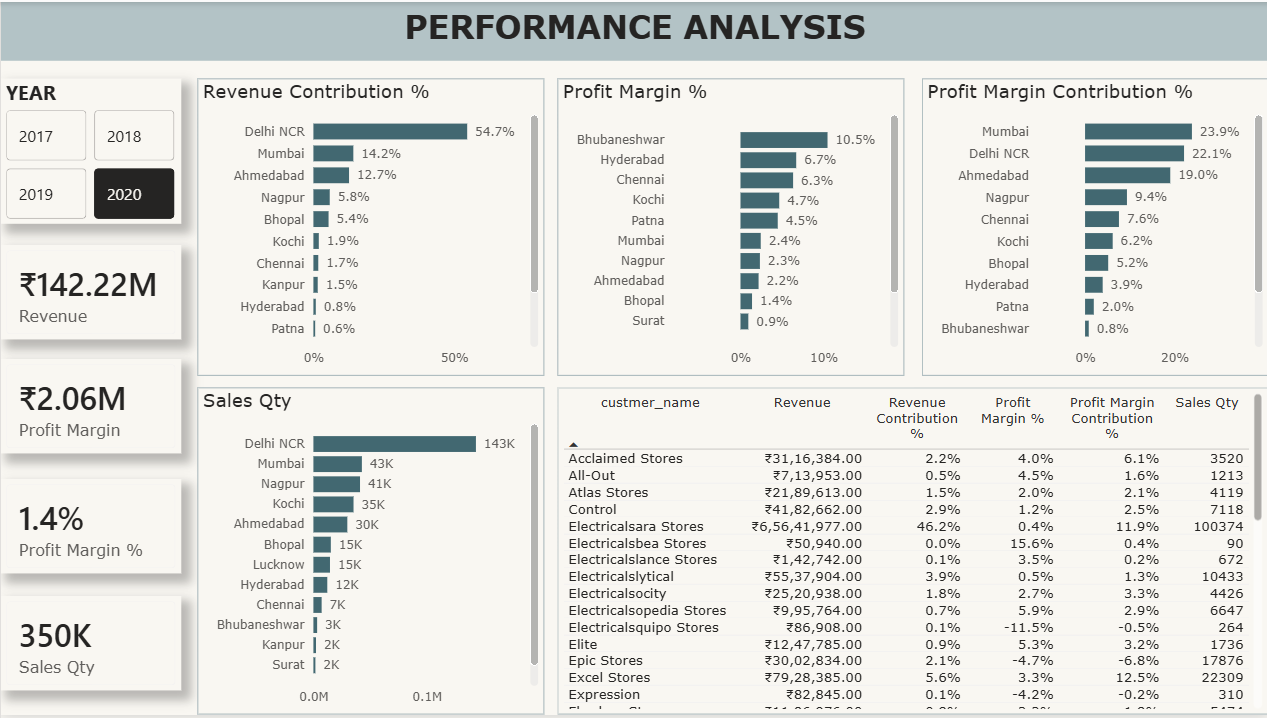

The dashboard page shown, as its layout file describes it:
{"tool":"powerbi","page":{"name":"Performance Analysis","canvas":[1280,720],"ordinal":1},"visuals":[{"type":"advancedSlicerVisual","title":"YEAR","fields":{"Values":["sales date.year"]},"box":[0,77.2,181.7,146.9],"z":0},{"type":"cardVisual","fields":{"Data":["Base Measures.Revenue"]},"box":[0,245.3,181.7,95.4],"z":1000},{"type":"cardVisual","fields":{"Data":["Base Measures.Profit Margin"]},"box":[0,360.4,181.7,95.4],"z":2000},{"type":"cardVisual","fields":{"Data":["Base Measures.Profit Margin %"]},"box":[0,481.5,181.7,95.4],"z":3000},{"type":"cardVisual","fields":{"Data":["Base Measures.Sales Qty"]},"box":[0,599.6,181.7,95.4],"z":4000},{"type":"textbox","box":[0,0,1279.5,59.1],"z":5000},{"type":"clusteredBarChart","title":"Revenue Contribution % ","fields":{"Category":["sales markets.markets_name"],"Y":["Base Measures.Revenue Contribution %"]},"box":[198.4,77.2,350,300],"z":6000},{"type":"clusteredBarChart","title":"Profit Margin %","fields":{"Y":["Base Measures.Profit Margin %"],"Category":["sales markets.markets_name"]},"box":[561.8,77.2,350,300],"z":7000},{"type":"clusteredBarChart","title":"Profit Margin Contribution %","fields":{"Category":["sales markets.markets_name"],"Y":["Base Measures.Profit Margin Contribution %"]},"box":[929.7,77.2,350,300],"z":8000},{"type":"clusteredBarChart","title":"Sales Qty","fields":{"Category":["sales markets.markets_name"],"Y":["Base Measures.Sales Qty"]},"box":[198.4,389.2,350,330.1],"z":9000},{"type":"tableEx","fields":{"Values":["sales customers.custmer_name","Base Measures.Revenue","Base Measures.Revenue Contribution %","Base Measures.Profit Margin %","Base Measures.Profit Margin Contribution %","Base Measures.Sales Qty"]},"box":[561.8,389.2,717.7,330.1],"z":10000}]}

Visuals, with their boxes in screenshot pixels (x1, y1, x2, y2), scaled from the page's 1280x720 canvas onto the 1267x718 screenshot:
"YEAR" advancedSlicerVisual: 0,77,180,223
cardVisual - Base Measures.Revenue: 0,245,180,340
cardVisual - Base Measures.Profit Margin: 0,359,180,455
cardVisual - Base Measures.Profit Margin %: 0,480,180,575
cardVisual - Base Measures.Sales Qty: 0,598,180,693
textbox: 0,0,1266,59
"Revenue Contribution % " clusteredBarChart: 196,77,543,376
"Profit Margin %" clusteredBarChart: 556,77,903,376
"Profit Margin Contribution %" clusteredBarChart: 920,77,1266,376
"Sales Qty" clusteredBarChart: 196,388,543,717
tableEx - sales customers.custmer_name x Base Measures.Revenue: 556,388,1266,717
